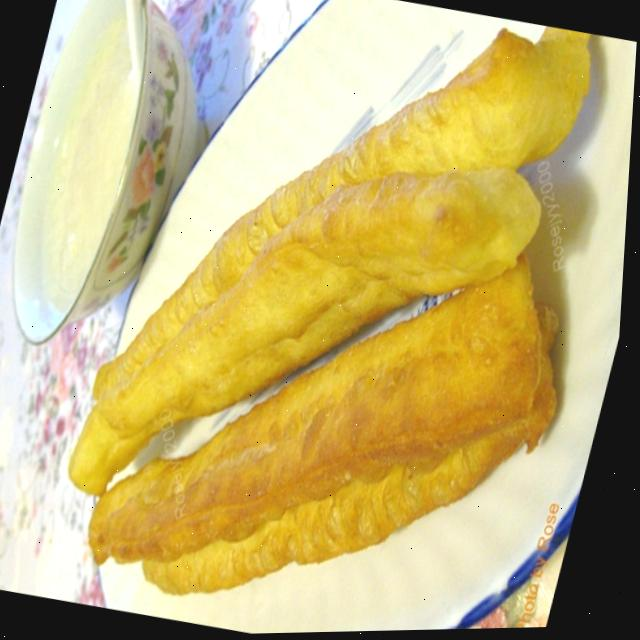炸货点心: (47, 0, 640, 639)
